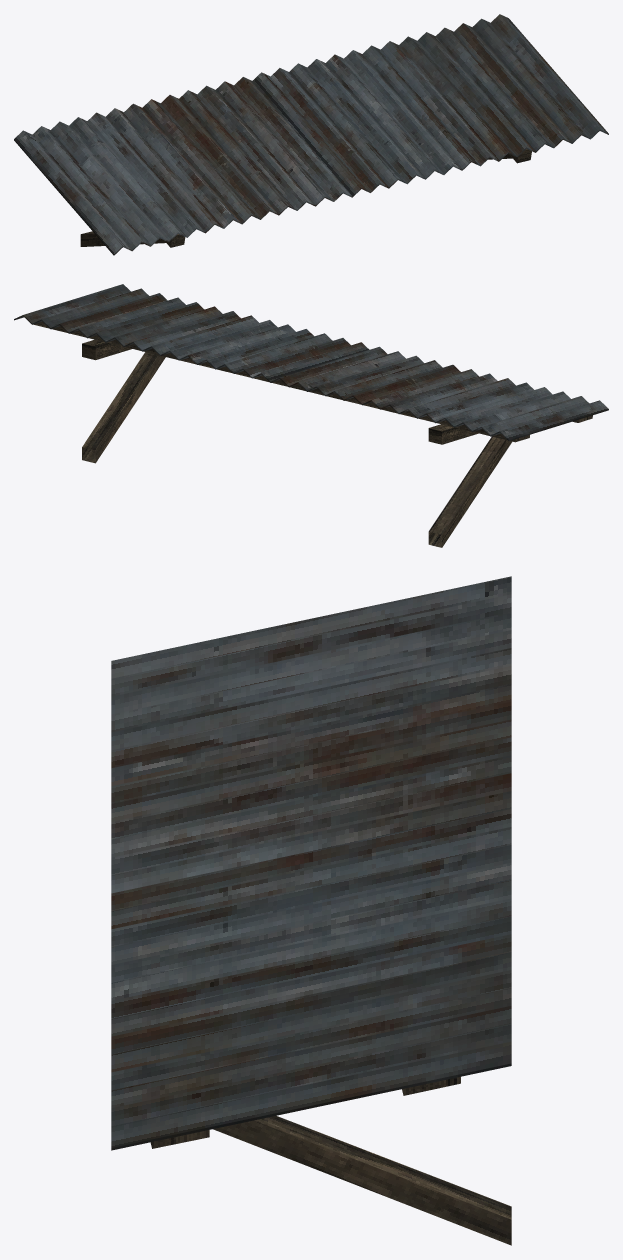
The model's file is roof_small_hr_3.glb.
The picture shows the model from 3 angles, top to bottom: view 1: azimuth 30°, elevation 25°; view 2: azimuth 150°, elevation 25°; view 3: azimuth 270°, elevation 25°; orthographic projection. The views are drawn at different scales.
Visible parts, largest first — view 1: roof_small_hr_3; view 2: roof_small_hr_3; view 3: roof_small_hr_3.
Boxes of the visible parts, x1=… form: roof_small_hr_3: x1=14, y1=14, x2=608, y2=255; roof_small_hr_3: x1=14, y1=284, x2=608, y2=547; roof_small_hr_3: x1=111, y1=576, x2=511, y2=1245.
Size of the model in its own units: 4 by 1.01 by 1.4.
2 materials, 2 textured.
